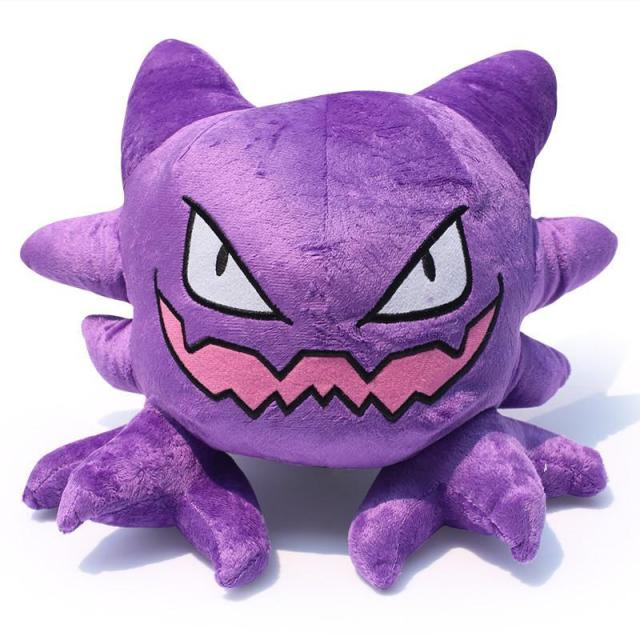Haunter: (20, 48, 607, 586)
